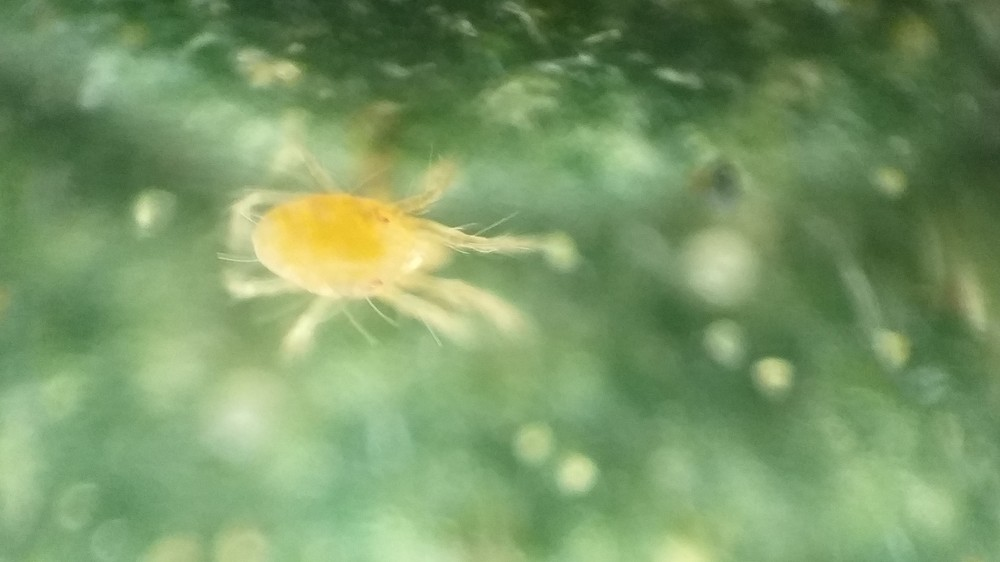Aracnido Rojo: (206, 135, 585, 372)
